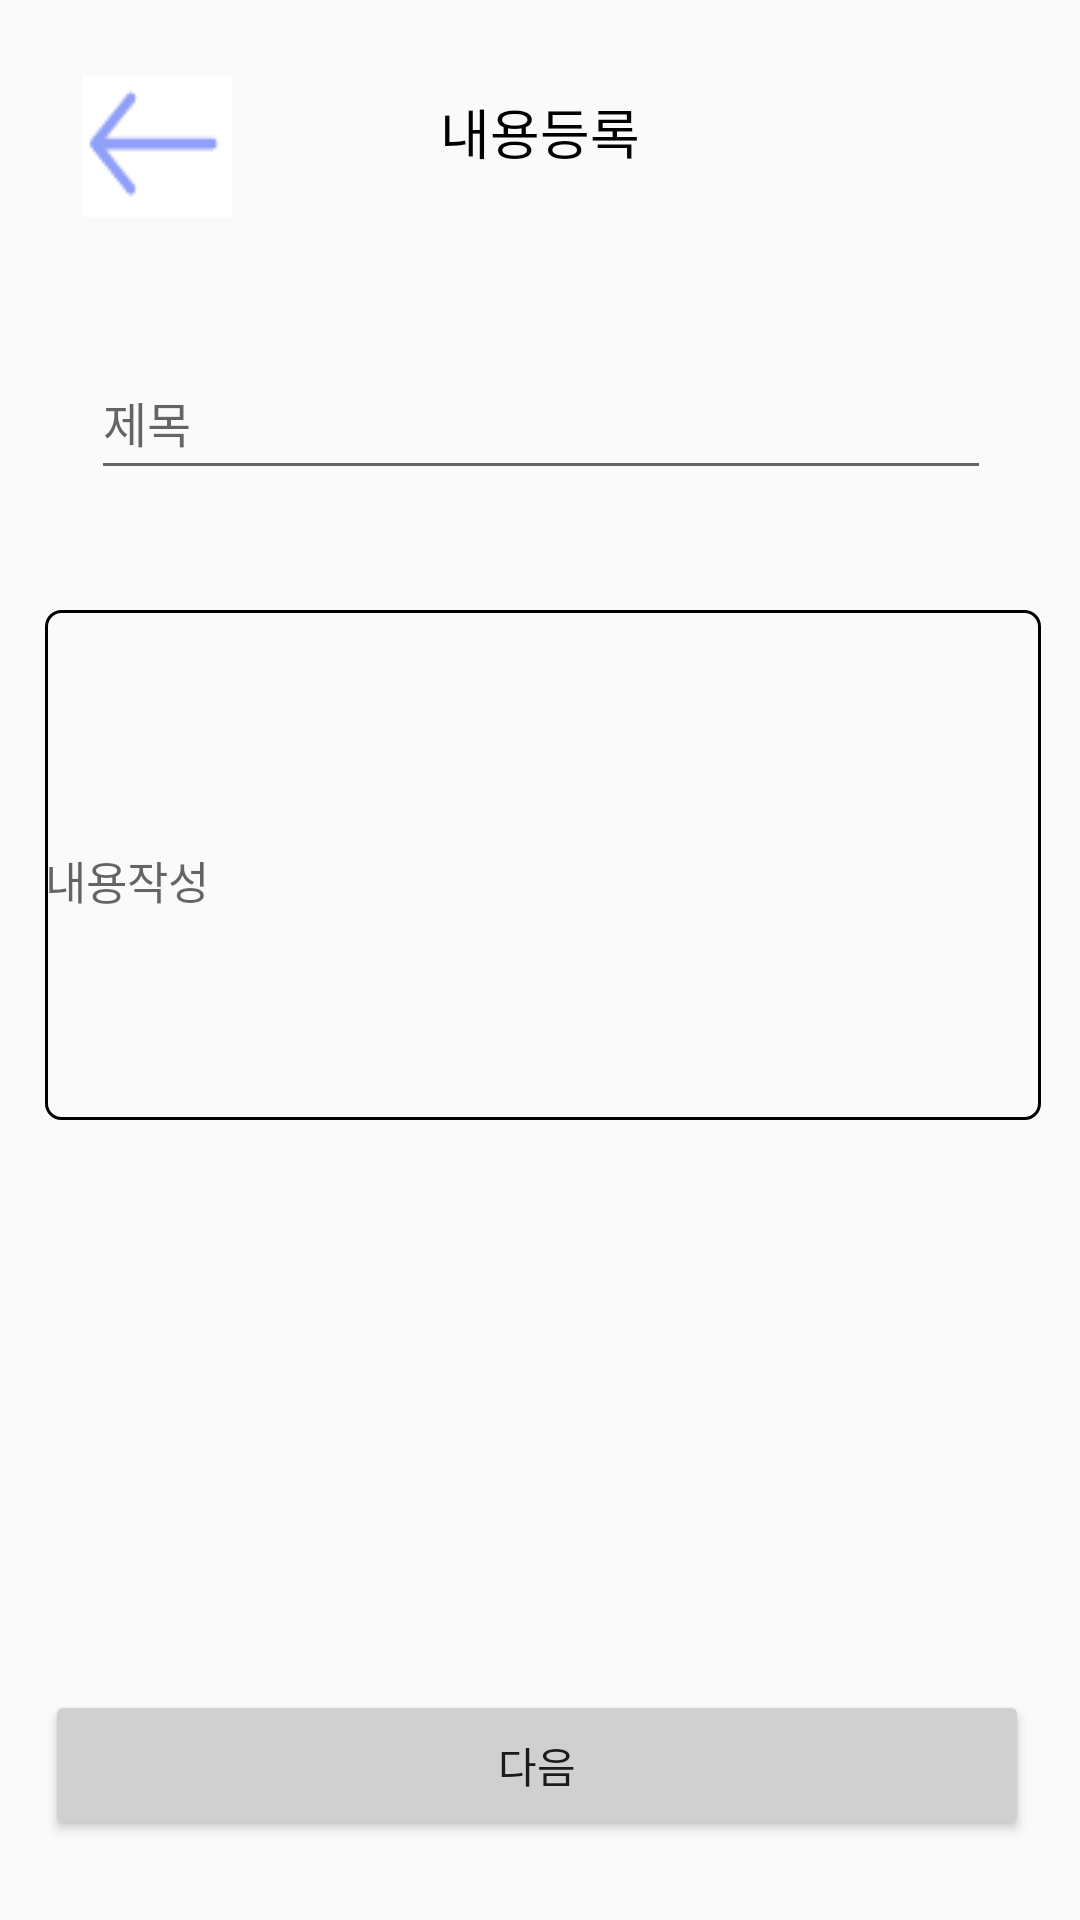

Icons on this 1080*1920 Android screen, each with its box as (x1=x1, y1=y1, x2=x2, y2=y2):
arrow: (x1=89, y1=91, x2=218, y2=196)
